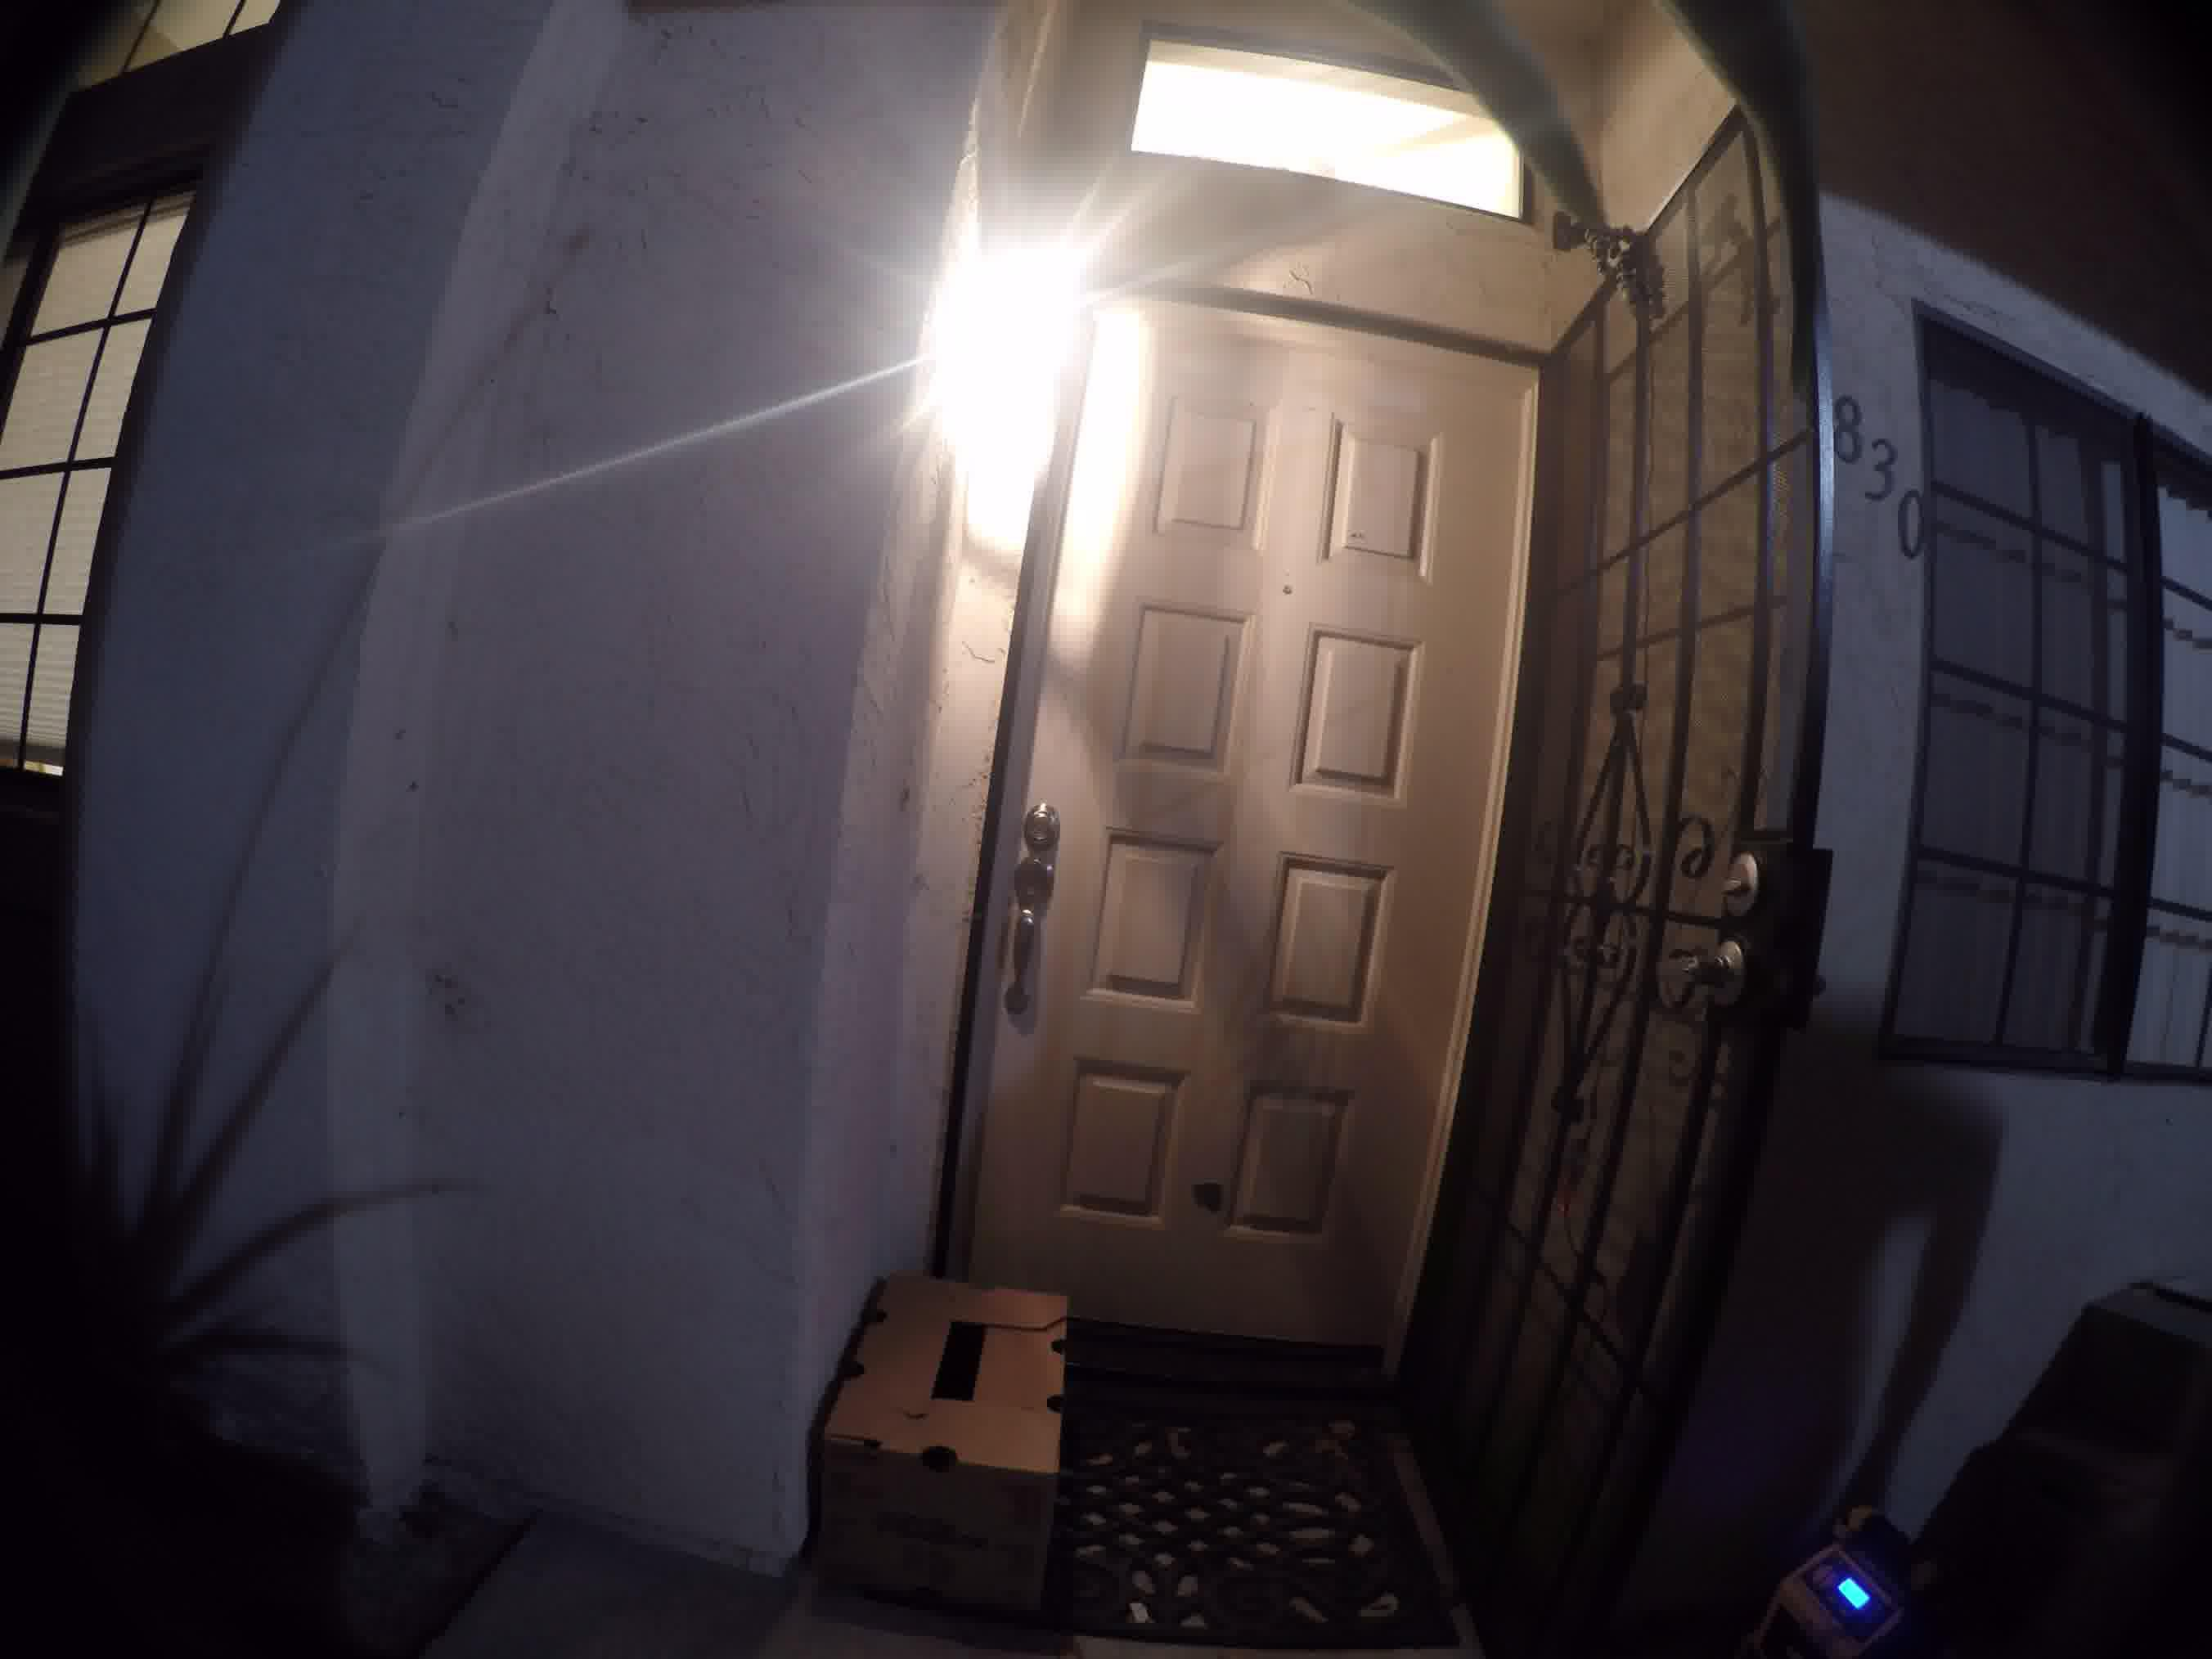box: (852, 1230, 1099, 1553)
